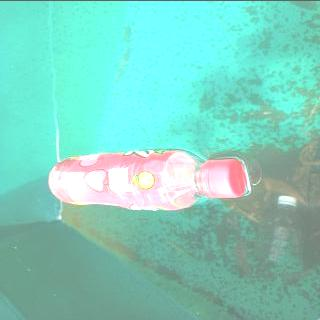bottle: (48, 147, 249, 210)
